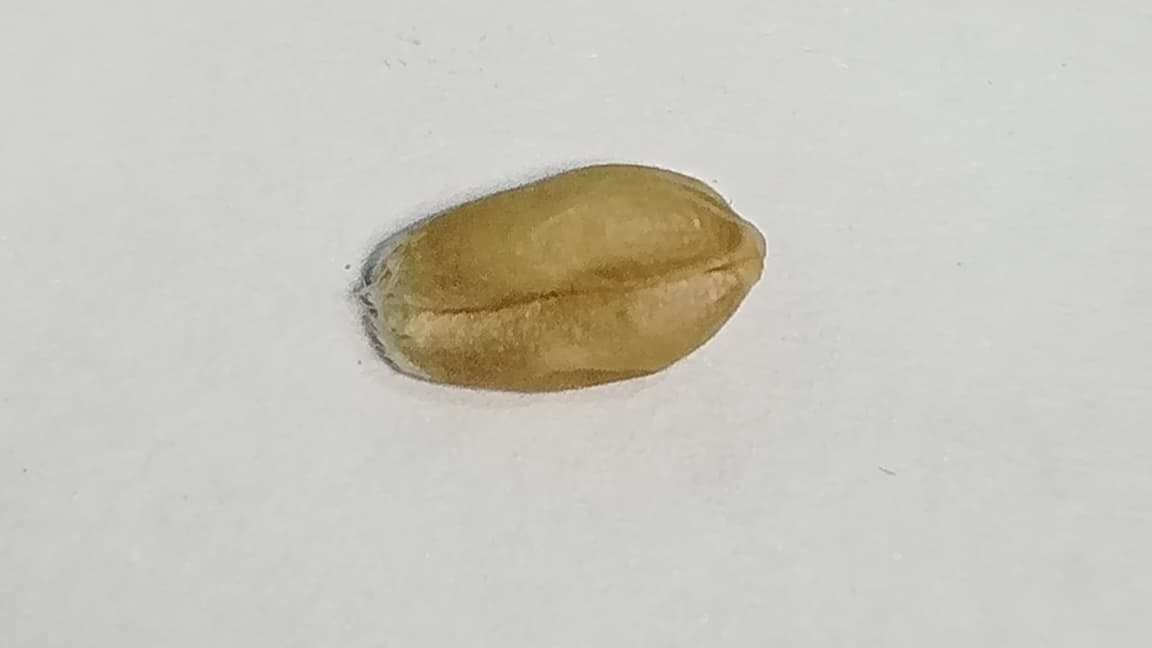healthy: (367, 165, 764, 390)
